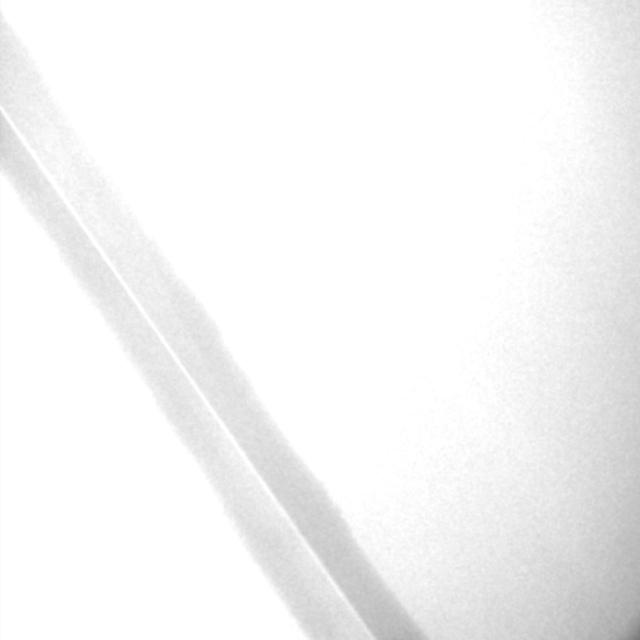broken arc: (2, 108, 373, 638)
